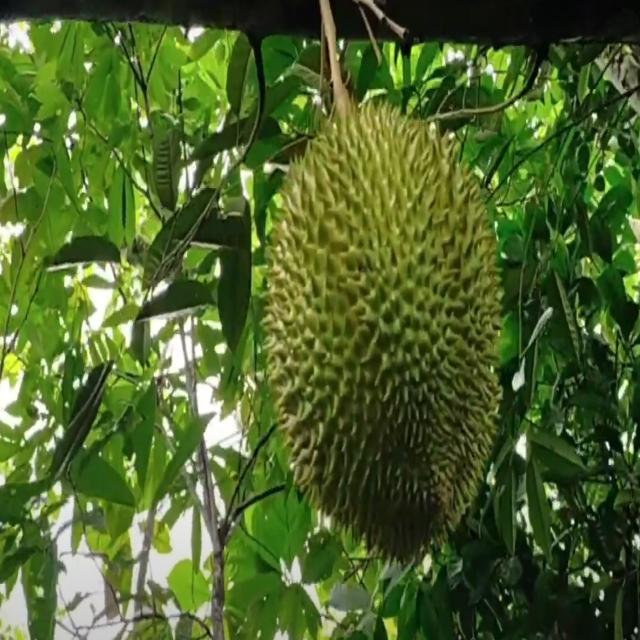immature: (260, 104, 504, 564)
